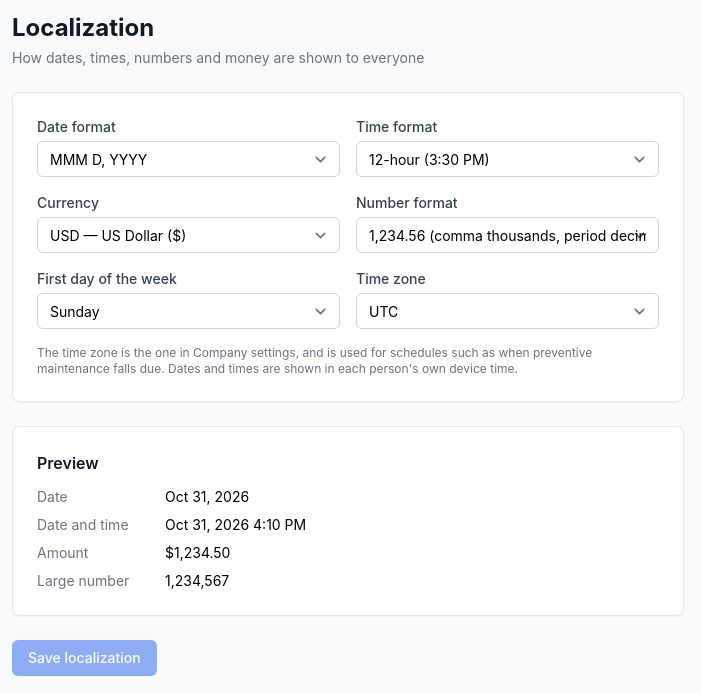
Scenario: LocalizationPage › has nothing to save until something changes
expect the button "Save localization" is disabled: met, box [12, 640, 157, 676]
Select "Monday" in the dropdown labelled "First day of the week": (188, 311) [37, 293, 340, 329]
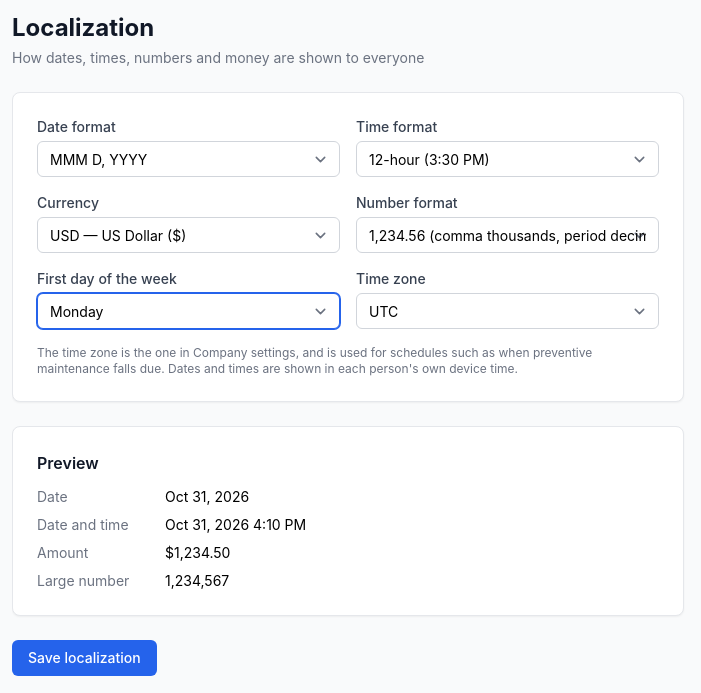
expect the button "Save localization" is enabled: met, box [12, 640, 157, 676]
